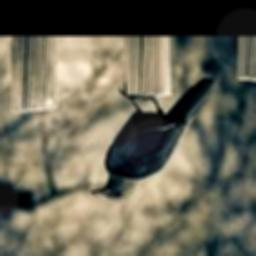Crow: (91, 78, 217, 203)
